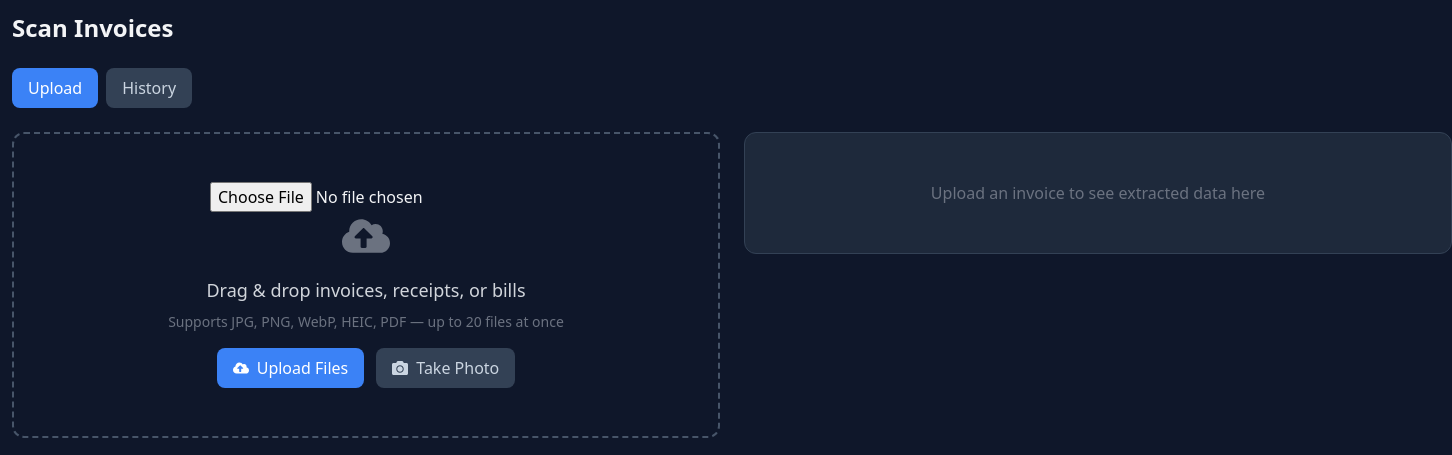
ScanPage › switches to history tab
Click the button "History" at (149, 88), box [106,68,192,108]
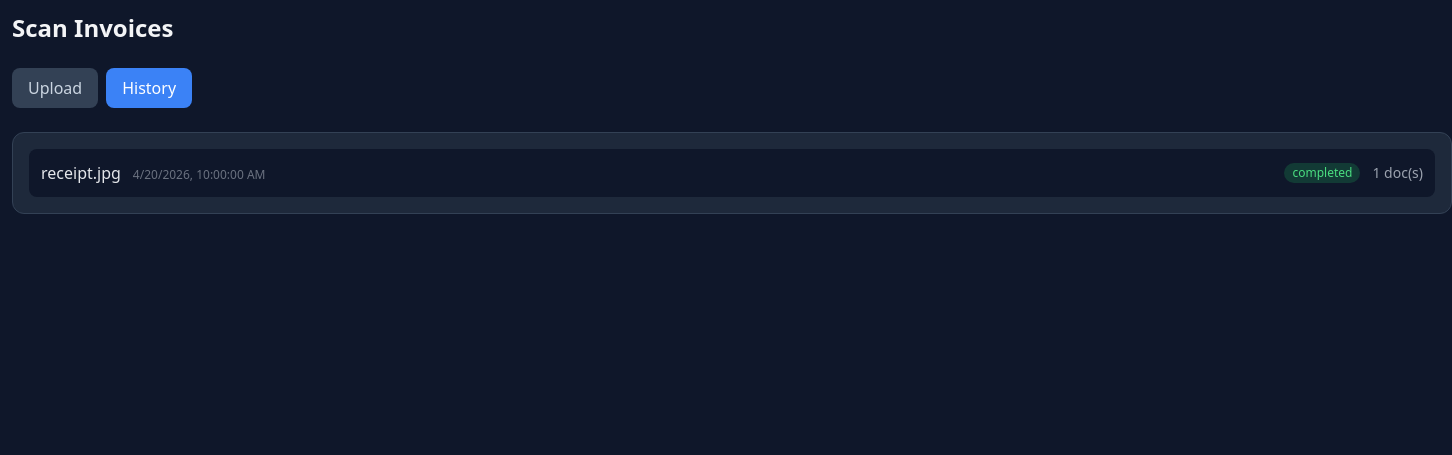
Now the text "receipt.jpg" is shown, box [41,162,121,184]
